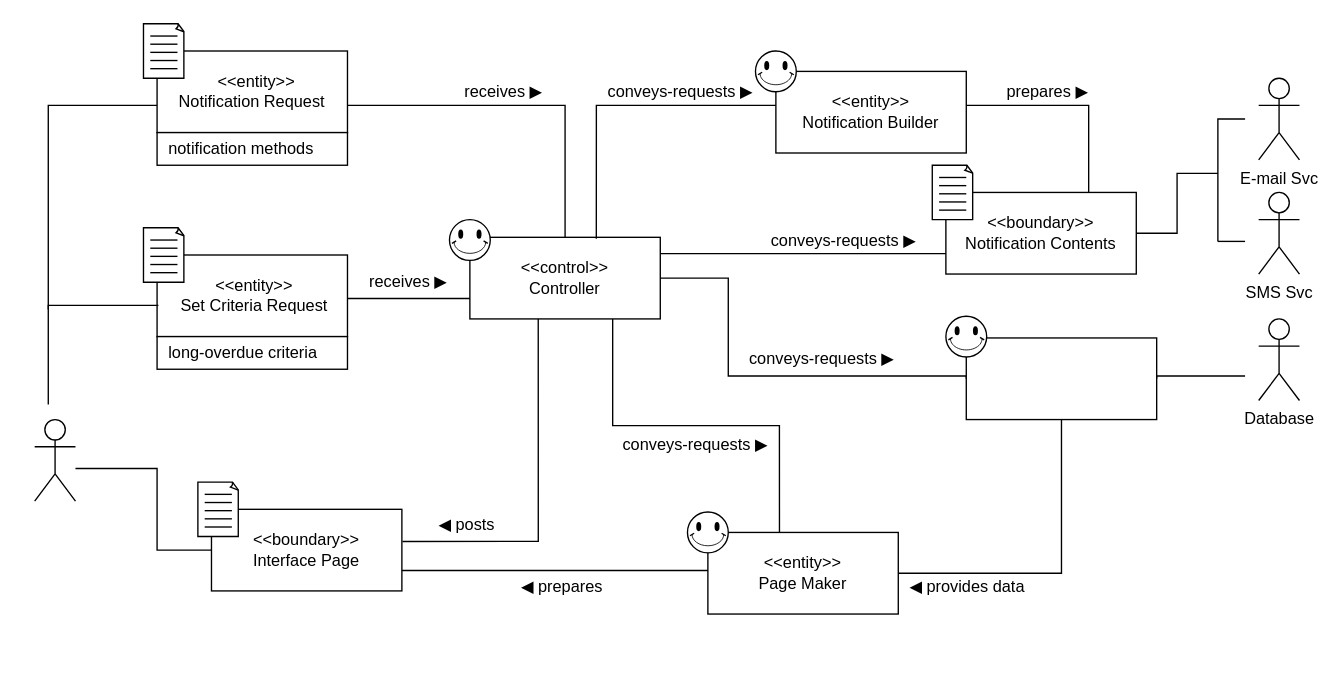
Image size: 1341x692. Some labels were removed from this diagram. The shapes that lost their labels are listed below. From the top down, each one's centre as x and y in pixels, then its label:
[1061,378]: <<boundary>> Database Connection
[54,459]: Manager
